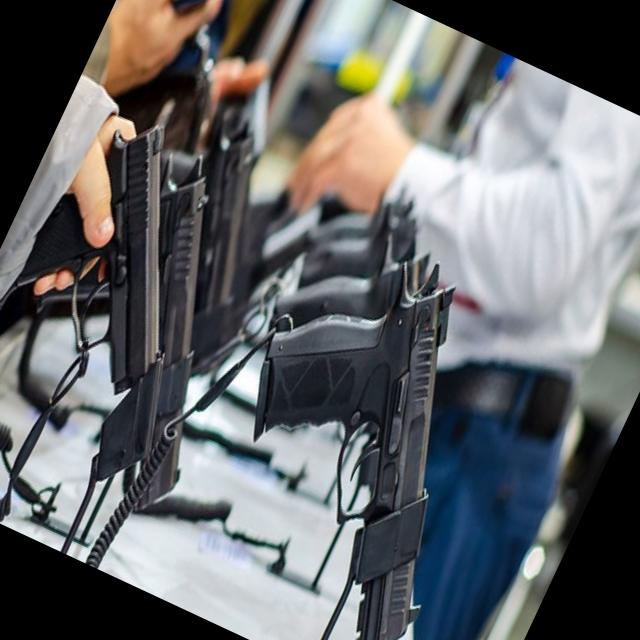Weapon: (163, 216, 558, 640), (0, 92, 289, 510)
